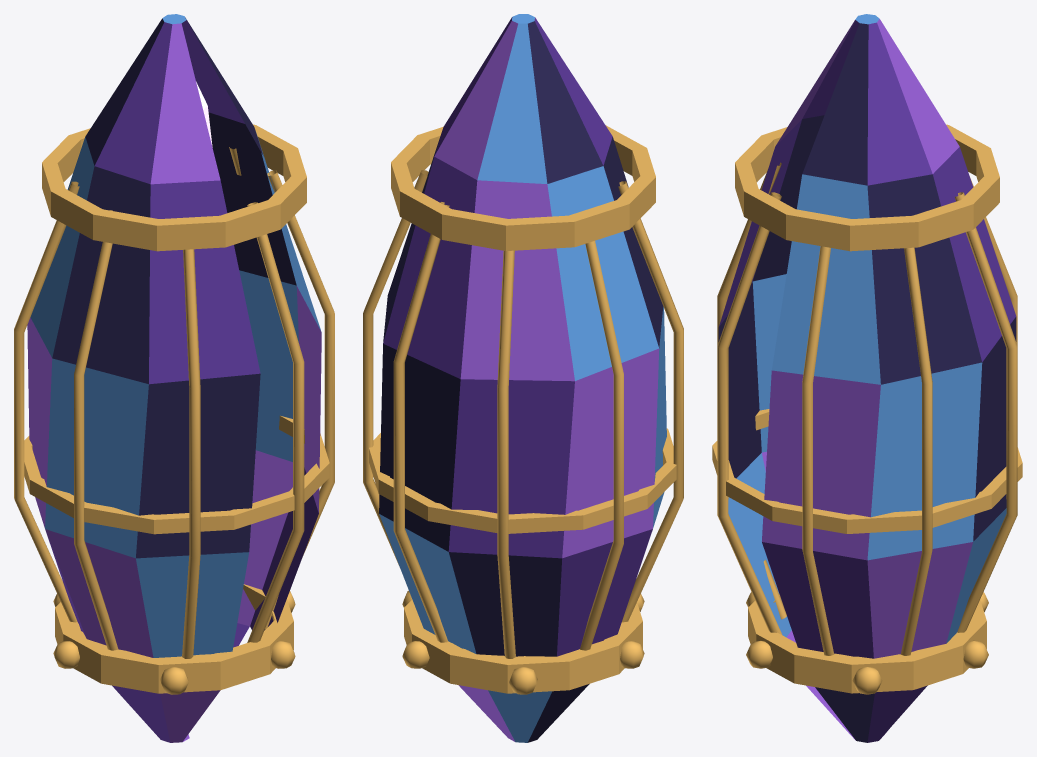
File: AegisCrystal.fbx
3 renders of one model, left to right at view 1: azimuth 30°, elevation 25°; view 2: azimuth 150°, elevation 25°; view 3: azimuth 270°, elevation 25°, orthographic.
Visible parts, largest first — view 1: Aegis_PrismShell, Aegis_GoldCrown, Aegis_GoldFoot, Aegis_GoldWaist, Aegis_GoldRib_06, Aegis_GoldRib_05, Aegis_GoldRib_03, Aegis_GoldRib_04, Aegis_GoldRib_07, Aegis_Rivet_04, Aegis_Rivet_03, Aegis_Rivet_05; view 2: Aegis_PrismShell, Aegis_GoldCrown, Aegis_GoldFoot, Aegis_GoldWaist, Aegis_GoldRib_01, Aegis_GoldRib_02, Aegis_GoldRib_03, Aegis_GoldRib_04, Aegis_GoldRib_00, Aegis_Rivet_02, Aegis_Rivet_01, Aegis_Rivet_03; view 3: Aegis_PrismShell, Aegis_GoldCrown, Aegis_GoldFoot, Aegis_GoldWaist, Aegis_GoldRib_06, Aegis_GoldRib_01, Aegis_GoldRib_07, Aegis_GoldRib_00, Aegis_GoldRib_05, Aegis_GoldRib_02, Aegis_Rivet_00, Aegis_Rivet_05 (+1 smaller).
Part boxes in pixels (left/top/right/bottom): Aegis_PrismShell: left=27, top=14, right=321, bottom=742; Aegis_GoldCrown: left=42, top=124, right=306, bottom=251; Aegis_GoldFoot: left=55, top=584, right=293, bottom=693; Aegis_GoldWaist: left=24, top=415, right=329, bottom=534; Aegis_GoldRib_06: left=247, top=202, right=304, bottom=642; Aegis_GoldRib_05: left=182, top=249, right=200, bottom=658; Aegis_GoldRib_03: left=14, top=181, right=79, bottom=622; Aegis_GoldRib_04: left=74, top=210, right=118, bottom=650; Aegis_GoldRib_07: left=265, top=170, right=334, bottom=629; Aegis_Rivet_04: left=160, top=667, right=188, bottom=694; Aegis_Rivet_03: left=53, top=641, right=79, bottom=668; Aegis_Rivet_05: left=271, top=641, right=295, bottom=668; Aegis_PrismShell: left=379, top=14, right=666, bottom=742; Aegis_GoldCrown: left=391, top=125, right=655, bottom=250; Aegis_GoldFoot: left=404, top=599, right=642, bottom=693; Aegis_GoldWaist: left=369, top=428, right=676, bottom=533; Aegis_GoldRib_01: left=393, top=202, right=449, bottom=642; Aegis_GoldRib_02: left=497, top=250, right=515, bottom=658; Aegis_GoldRib_03: left=580, top=241, right=623, bottom=650; Aegis_GoldRib_04: left=618, top=181, right=683, bottom=622; Aegis_GoldRib_00: left=363, top=170, right=428, bottom=564; Aegis_Rivet_02: left=509, top=667, right=537, bottom=694; Aegis_Rivet_01: left=402, top=641, right=429, bottom=668; Aegis_Rivet_03: left=620, top=641, right=644, bottom=668; Aegis_PrismShell: left=718, top=14, right=1016, bottom=742; Aegis_GoldCrown: left=735, top=124, right=999, bottom=251; Aegis_GoldFoot: left=748, top=594, right=986, bottom=693; Aegis_GoldWaist: left=712, top=409, right=1022, bottom=533; Aegis_GoldRib_06: left=717, top=192, right=782, bottom=635; Aegis_GoldRib_01: left=955, top=192, right=1017, bottom=632; Aegis_GoldRib_07: left=802, top=246, right=834, bottom=655; Aegis_GoldRib_00: left=900, top=247, right=932, bottom=655; Aegis_GoldRib_05: left=717, top=162, right=786, bottom=619; Aegis_GoldRib_02: left=970, top=178, right=1017, bottom=345; Aegis_Rivet_00: left=852, top=667, right=882, bottom=694; Aegis_Rivet_05: left=746, top=640, right=772, bottom=668.
Bounding box in the file's own units: 0.353 × 0.9 × 0.353.
